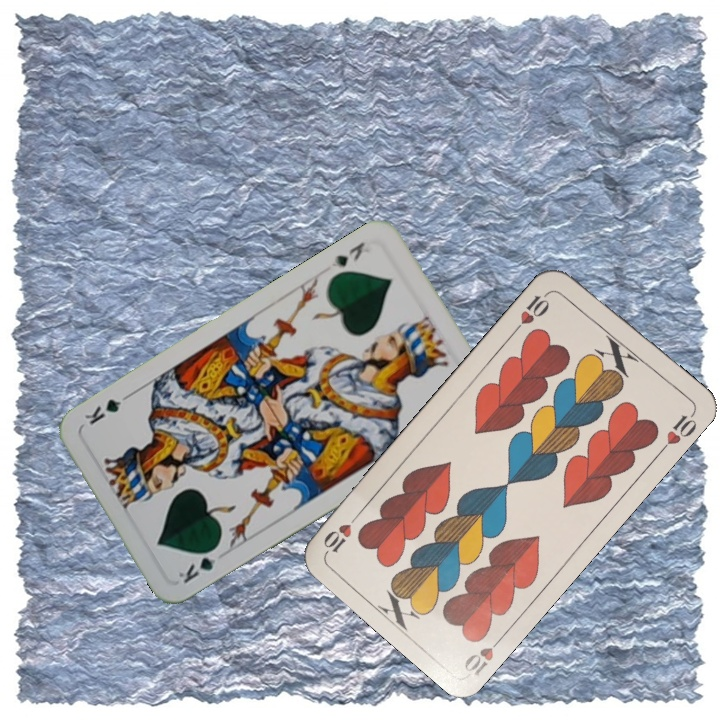GK: (174, 542, 222, 586), (327, 237, 368, 270)
H10: (460, 629, 508, 679), (510, 286, 555, 335)
